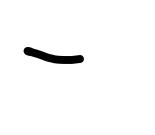minus: (24, 46, 84, 64)
